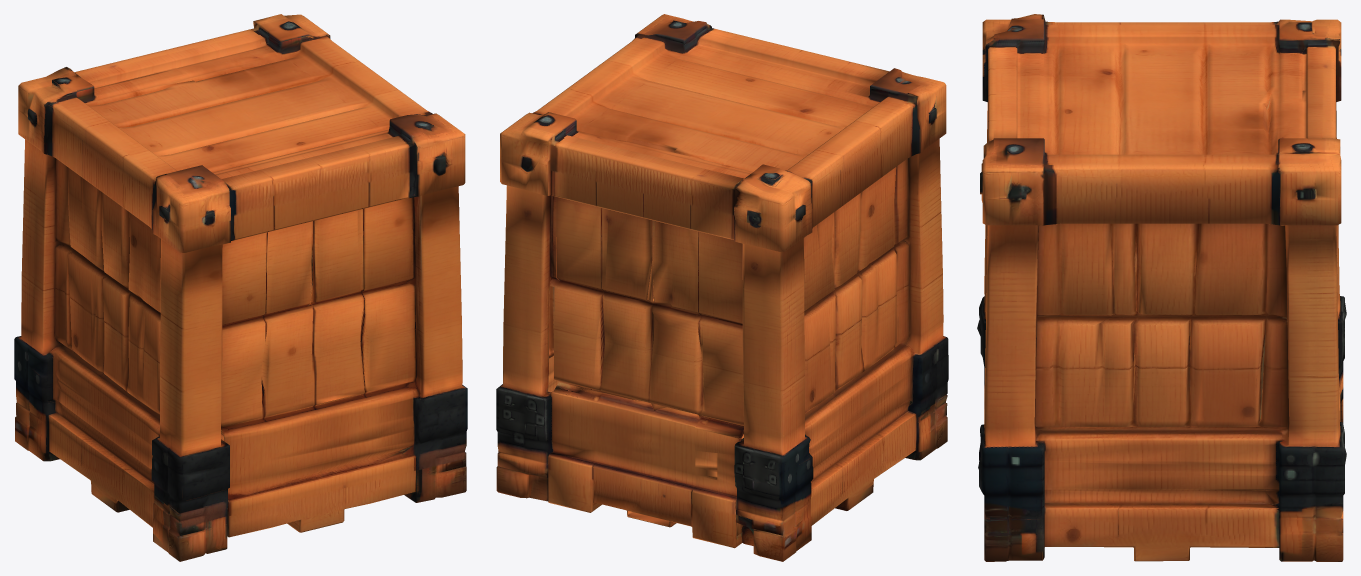
The model's file is wooden_crate.glb.
The picture shows the model from 3 angles, left to right: view 1: azimuth 30°, elevation 25°; view 2: azimuth 150°, elevation 25°; view 3: azimuth 270°, elevation 25°; orthographic projection. The views are drawn at different scales.
Size of the model in its own units: 1.56 by 1.91 by 1.59.
Materials: 1 (1 with a texture image).
